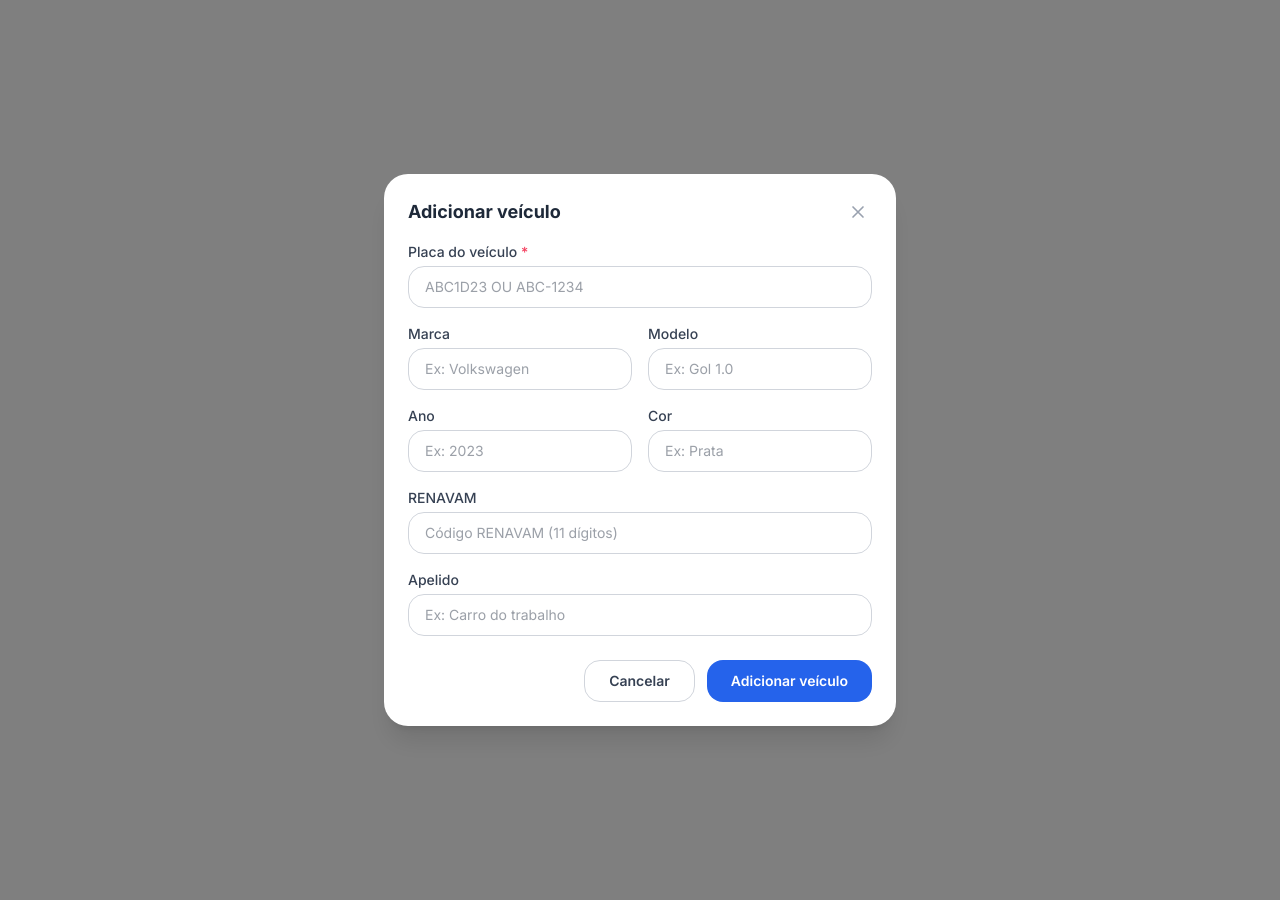
Test: VehicleFormModalComponent › Error Messages › should display plate format hint for invalid plate
This screenshot has width=1280, height=900.
In the field labelled "Placa do veículo *": (640, 287) [408,266,872,308], type "INVALID"
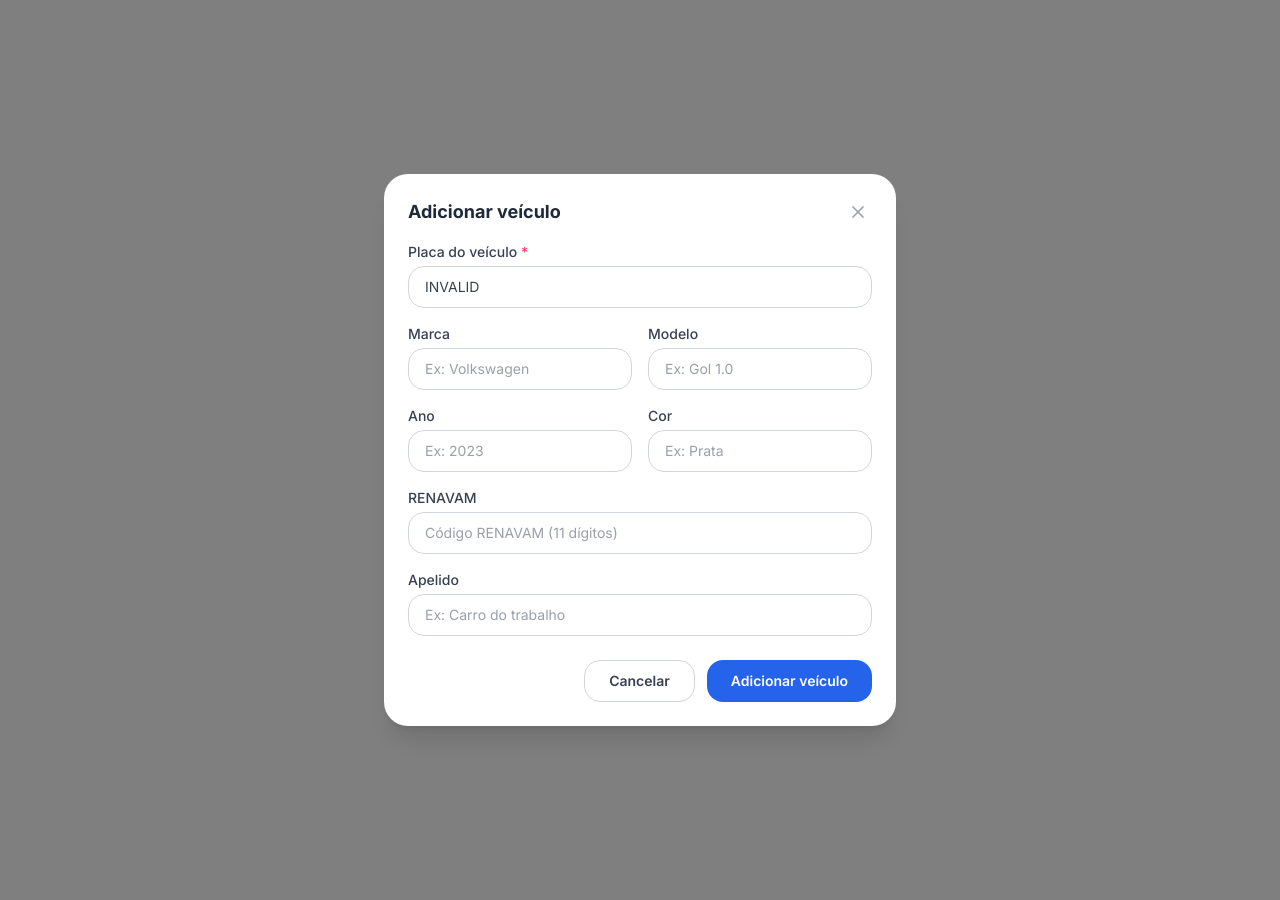
Submit the form, box [384,242,896,726]
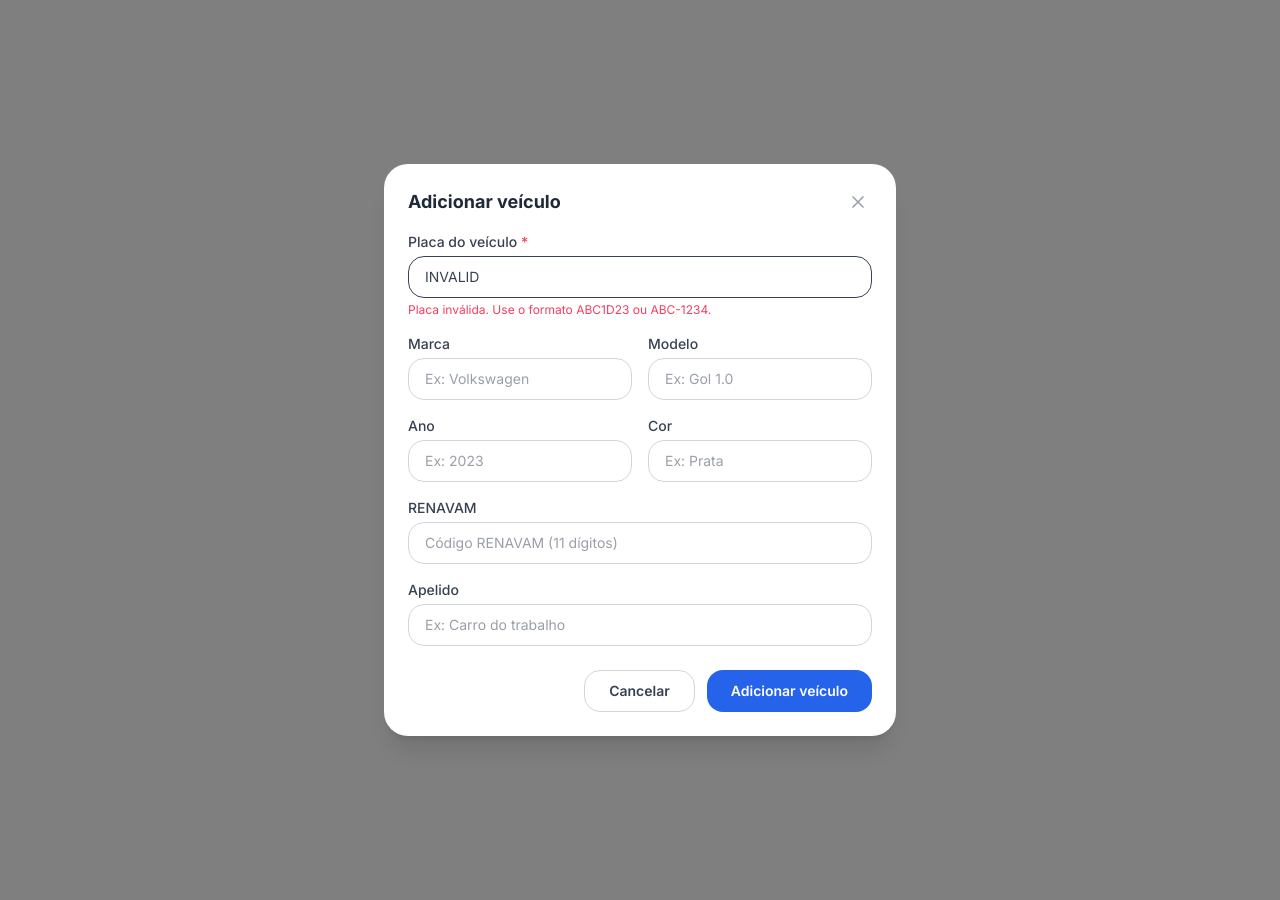
Expected: the message "Placa inválida. Use o formato ABC1D23 ou ABC-1234." is shown, [408,302,711,317]
